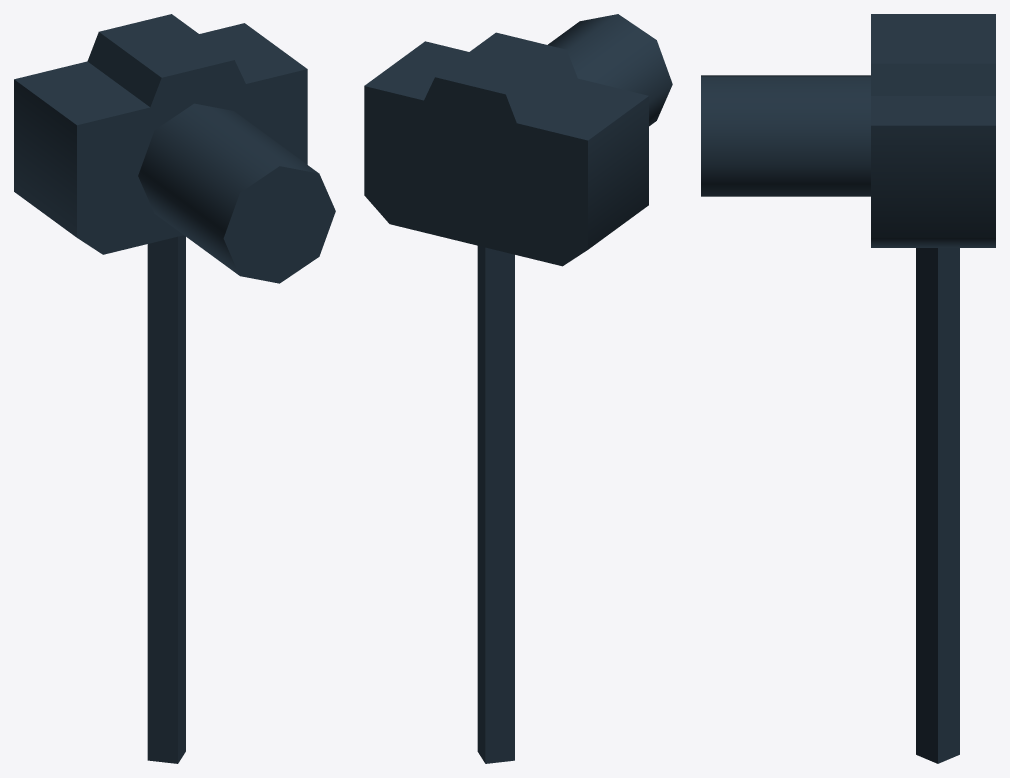
Rendered from goalCam.glb.
3 views of the same model, side by side, from view 1: azimuth 30°, elevation 25°; view 2: azimuth 150°, elevation 25°; view 3: azimuth 270°, elevation 25° (orthographic). The views are drawn at different scales.
Parts seen in each view (by area): view 1: cam; view 2: cam; view 3: cam.
Part boxes in pixels (x1,y1,x2,y2): cam: (14,14,335,763); cam: (364,14,672,763); cam: (701,14,995,763).
Bounding box in the file's own units: 0.2799 × 0.8261 × 0.3119.
